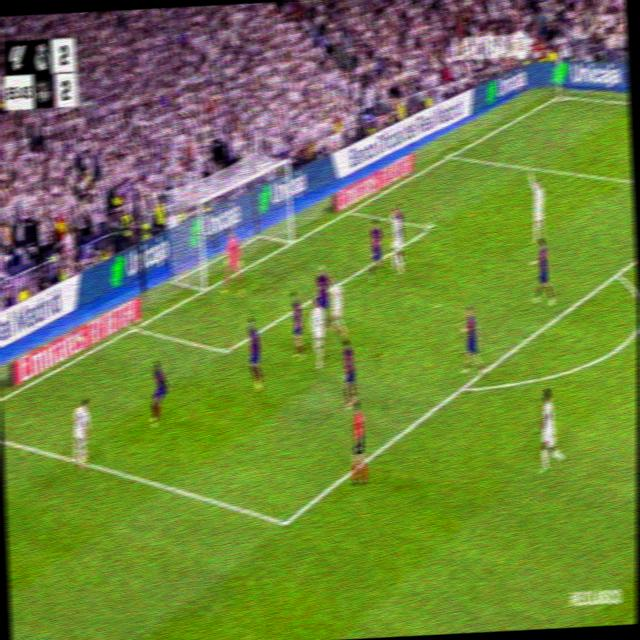bigarea_bottom_inner: (276, 504, 295, 540)
bigarea_bottom_outter: (129, 318, 142, 336)
bigarea_top_outter: (444, 147, 457, 163)
bottom_arc_area_intersection: (456, 375, 471, 398)
corner: (551, 89, 564, 103)
smallarea_bottom_inner: (219, 339, 232, 363)
smallarea_top_inner: (424, 215, 438, 238)
